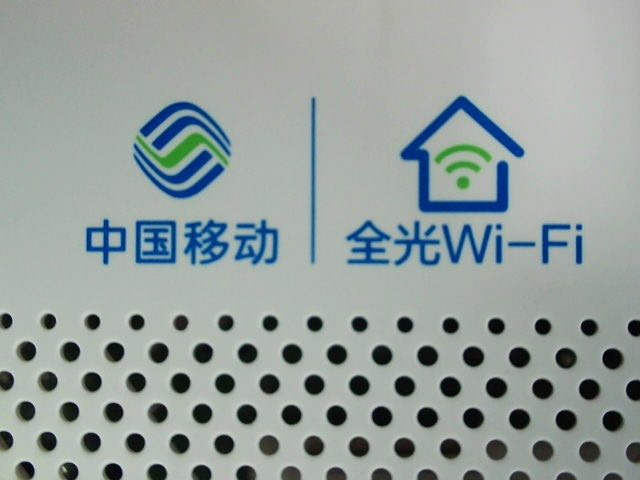BJ_QuanGuangMobile: (65, 87, 591, 283)
